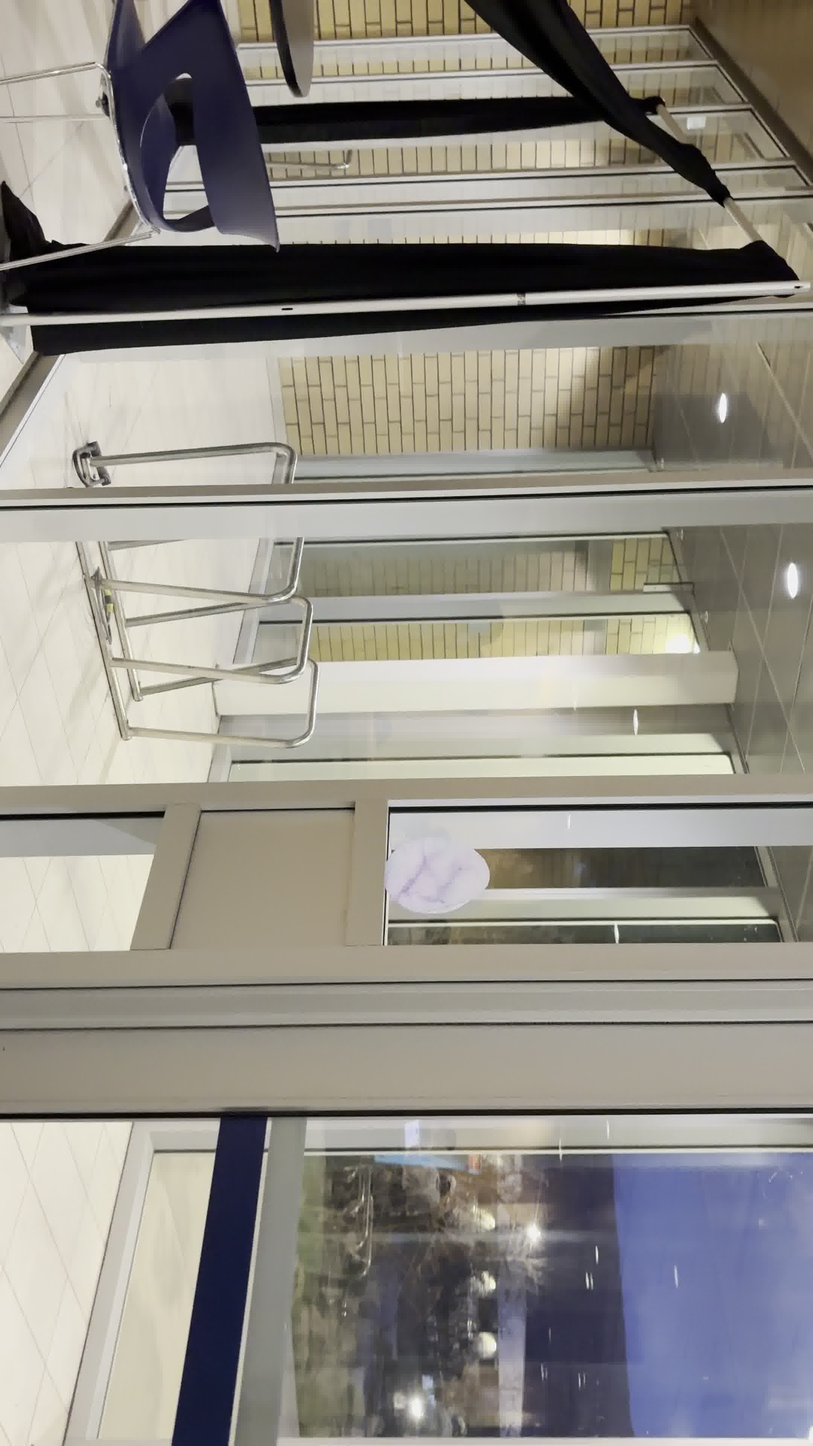Target: (383, 833, 492, 915)
